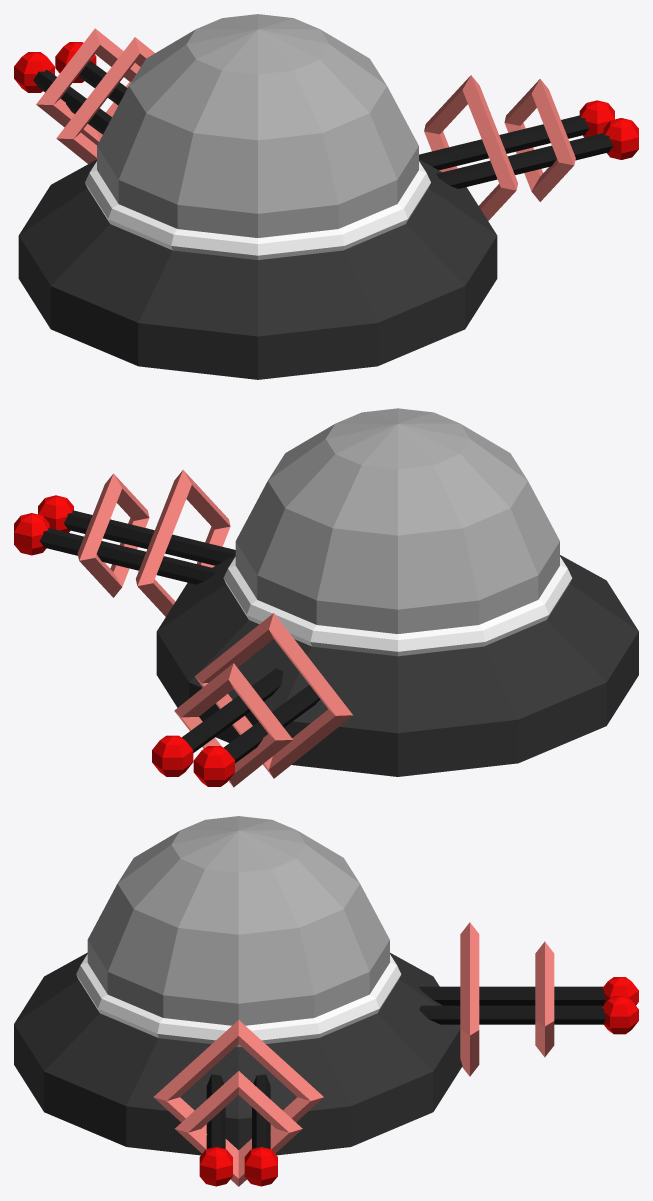
The model's file is alien_ship7.fbx.
The picture shows the model from 3 angles, top to bottom: view 1: azimuth 30°, elevation 25°; view 2: azimuth 150°, elevation 25°; view 3: azimuth 270°, elevation 25°; orthographic projection. The views are drawn at different scales.
Parts seen in each view (by area): view 1: merge4; view 2: merge4; view 3: merge4.
Boxes of the visible parts, box(x1,y1,x2,y2) form: merge4: box(14, 14, 638, 379); merge4: box(14, 408, 638, 787); merge4: box(14, 816, 638, 1186).
Bounding box in the file's own units: 2.78 × 1.21 × 2.78.
